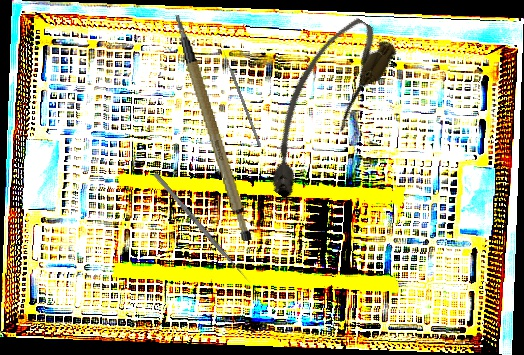Cannula: (239, 8, 402, 207)
Pusher: (153, 172, 252, 285), (220, 45, 262, 148)
Scalpel Handle: (174, 8, 256, 247)
